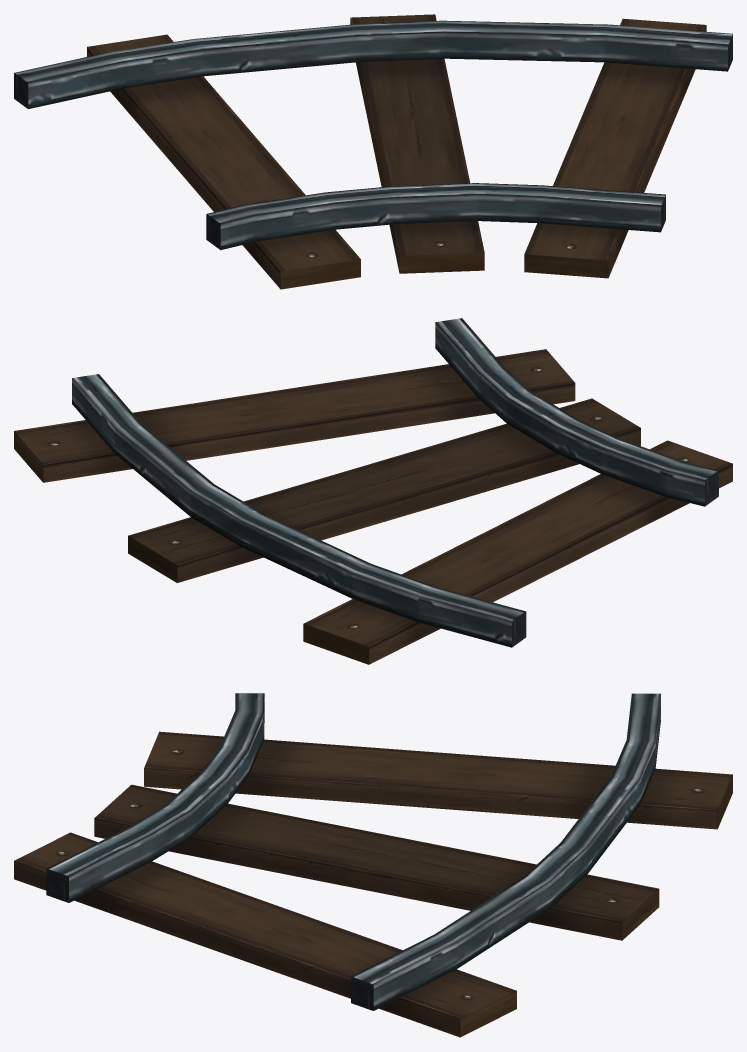
Rendered from rail5.FBX.
The picture shows the model from 3 angles, top to bottom: view 1: azimuth 30°, elevation 25°; view 2: azimuth 150°, elevation 25°; view 3: azimuth 270°, elevation 25°; orthographic projection. The views are drawn at different scales.
Visible parts, largest first — view 1: rail5; view 2: rail5; view 3: rail5.
Boxes of the visible parts, <box> form: rail5: <box>14,14,732,289</box>; rail5: <box>14,318,732,664</box>; rail5: <box>14,693,732,1037</box>.
Bounding box in the file's own units: 145 × 10.19 × 147.
